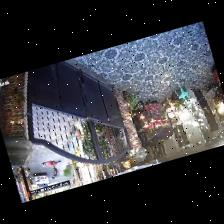person: (52, 161, 57, 177), (43, 160, 60, 164)
